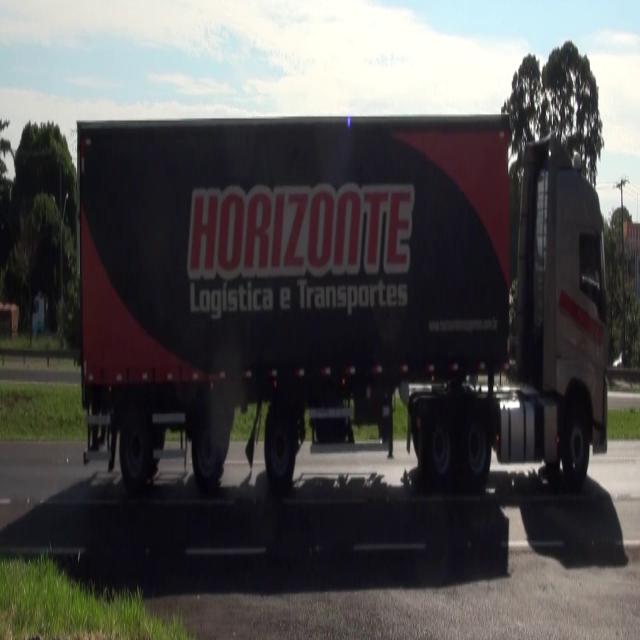-axle: (264, 399, 298, 495), (190, 403, 226, 491), (120, 399, 152, 491), (462, 396, 493, 480), (563, 409, 590, 493), (424, 399, 451, 480)
